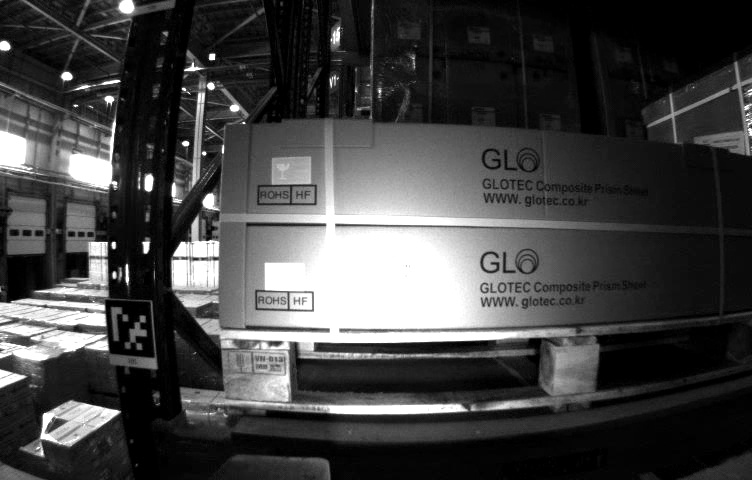True Barcode: (357, 256, 427, 310)
